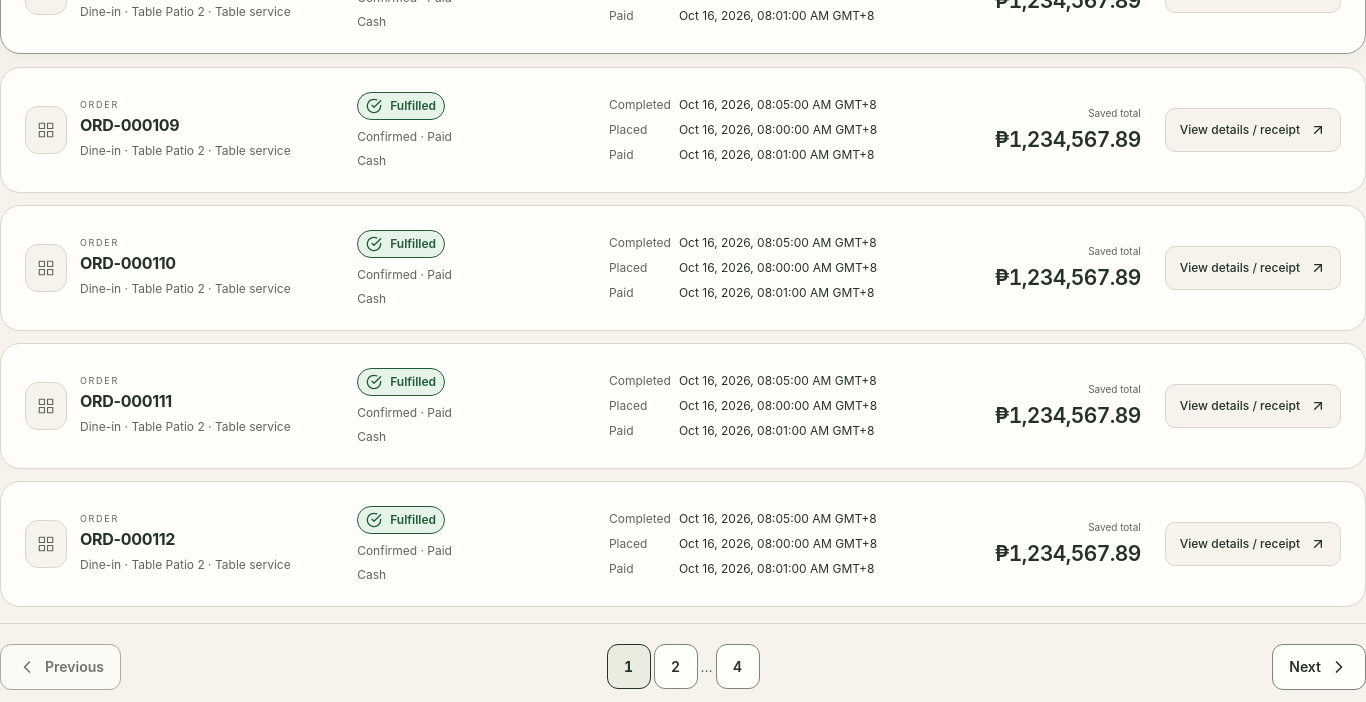
jumps to numbered history pages and keeps the server snapshot until refresh
(page scrolled)
Click the button named "Go to page 4" at coordinates (738, 667), box [716,644,760,689]
(page scrolled)
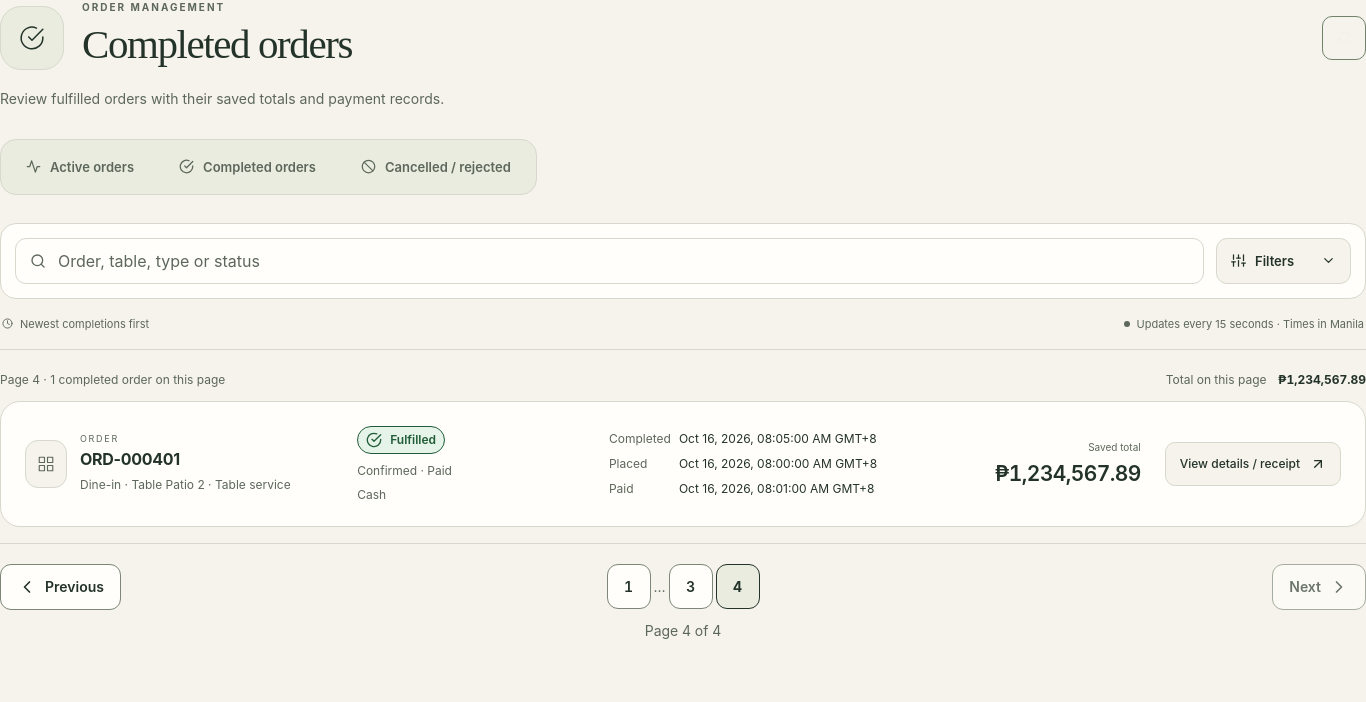
Result: the heading "ORD-000401" is shown at [80,449,180,469]
Result: the button "Next" is disabled at [1272,564,1365,610]
Click the button named "Go to page 1" at coordinates (628, 587), box [606,564,650,609]
(page scrolled)
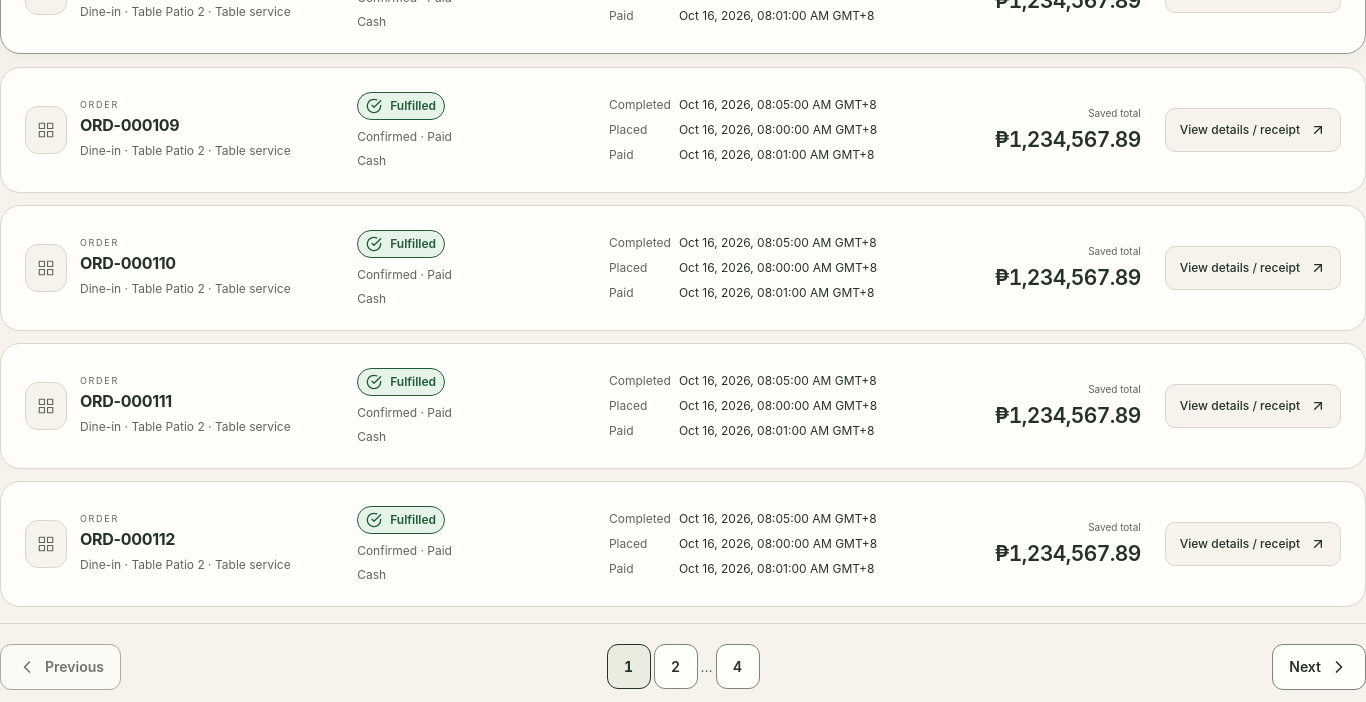
Click the button "Next" at coordinates (1319, 667), box [1272,644,1365,690]
(page scrolled)
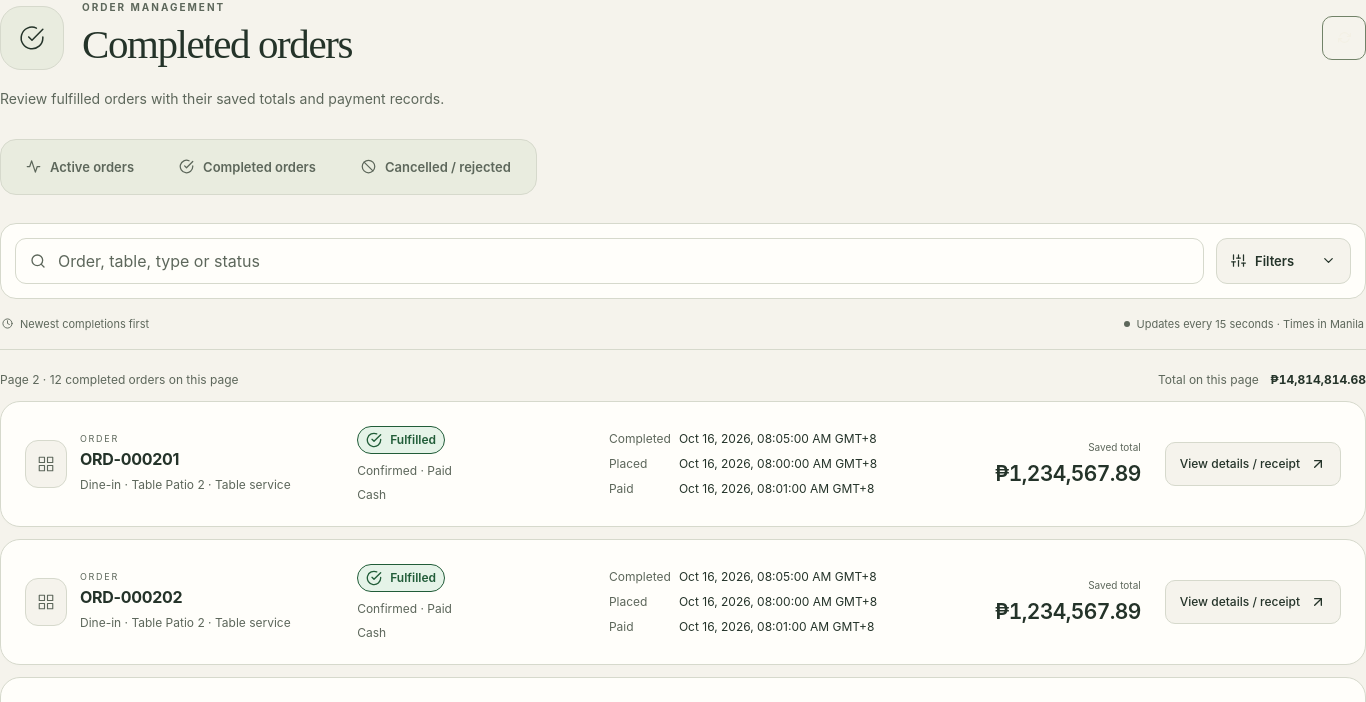
Result: the heading "ORD-000201" is shown at [80,449,179,469]
Click the button named "Refresh" at coordinates (1344, 38), box [1322,16,1365,60]
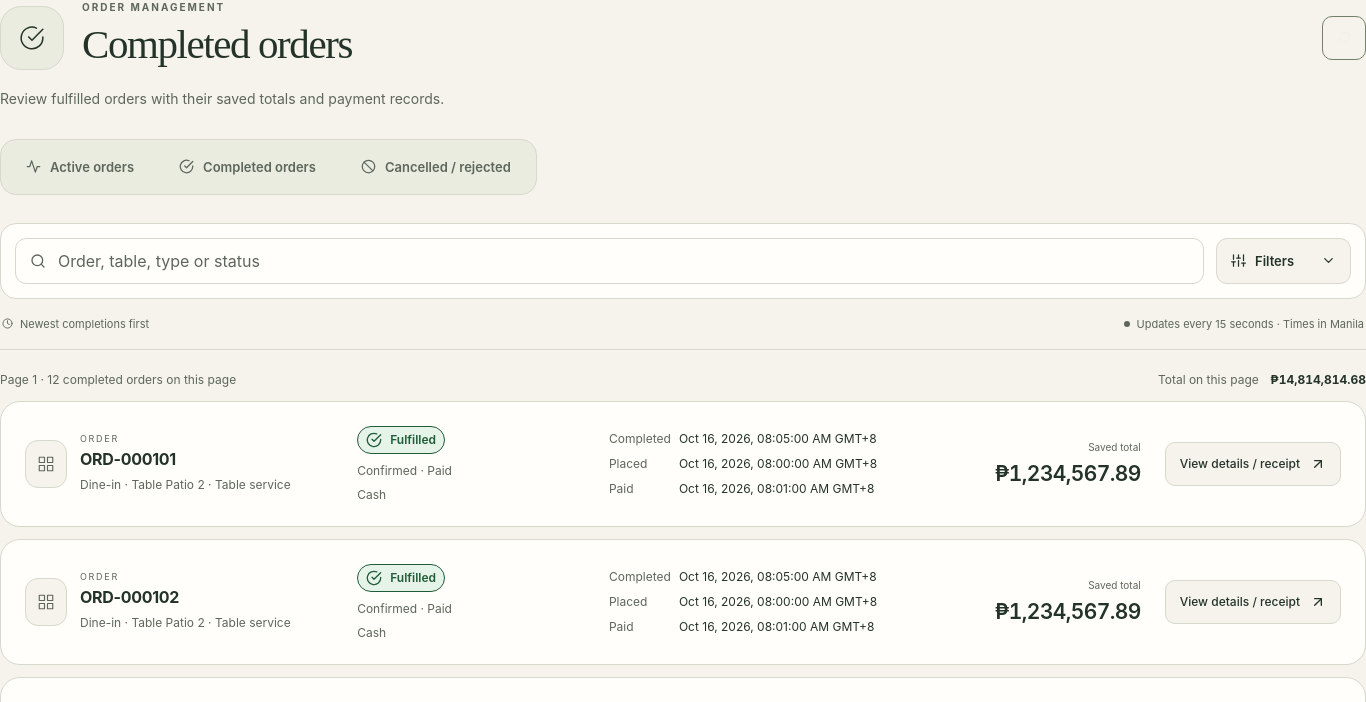
Result: the heading "ORD-000101" is shown at [80,449,176,469]
